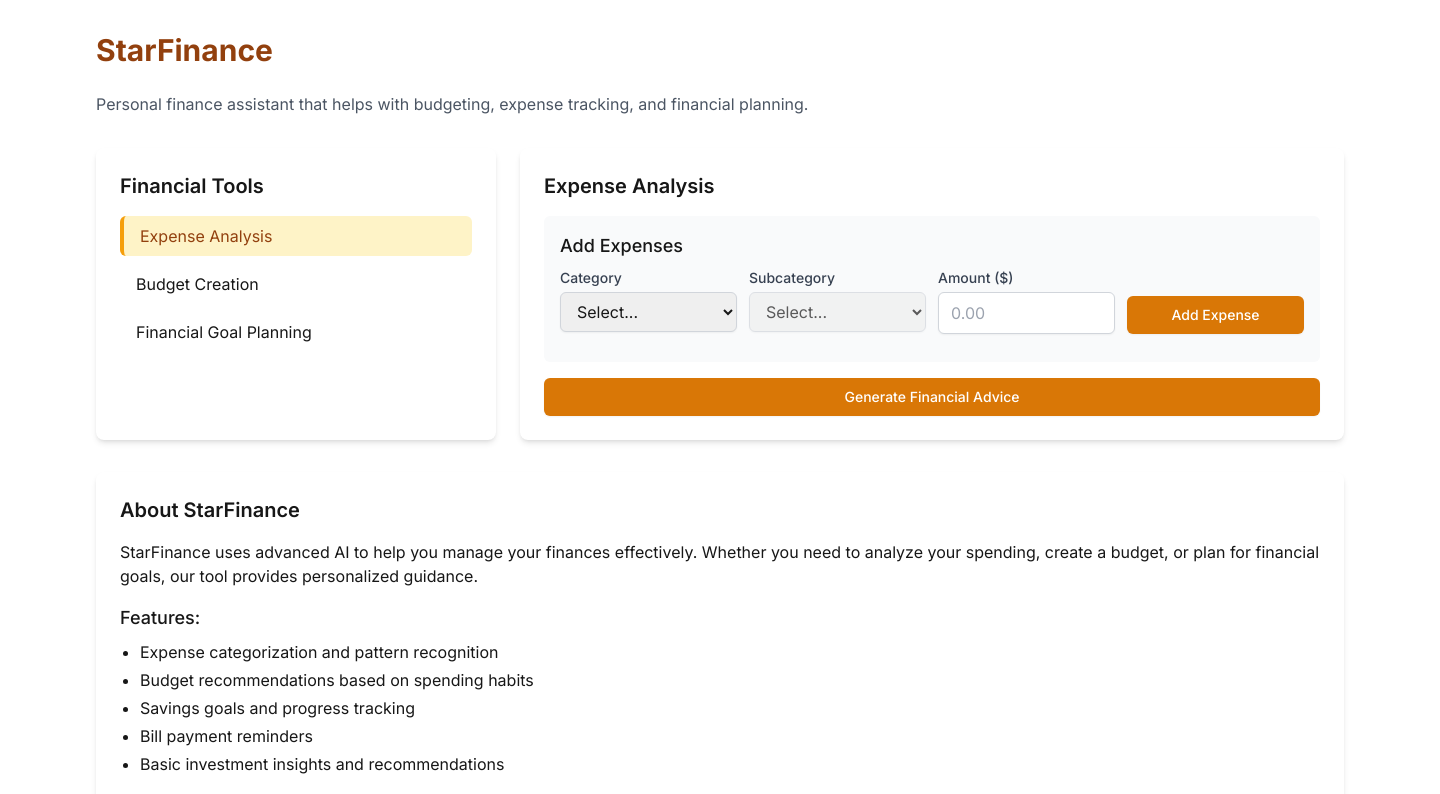
Test: StarFinance Component › handles API errors gracefully
Note: Add an expense and submit
Select "Food" in the dropdown labelled "Category": (648, 312) [560,292,737,332]
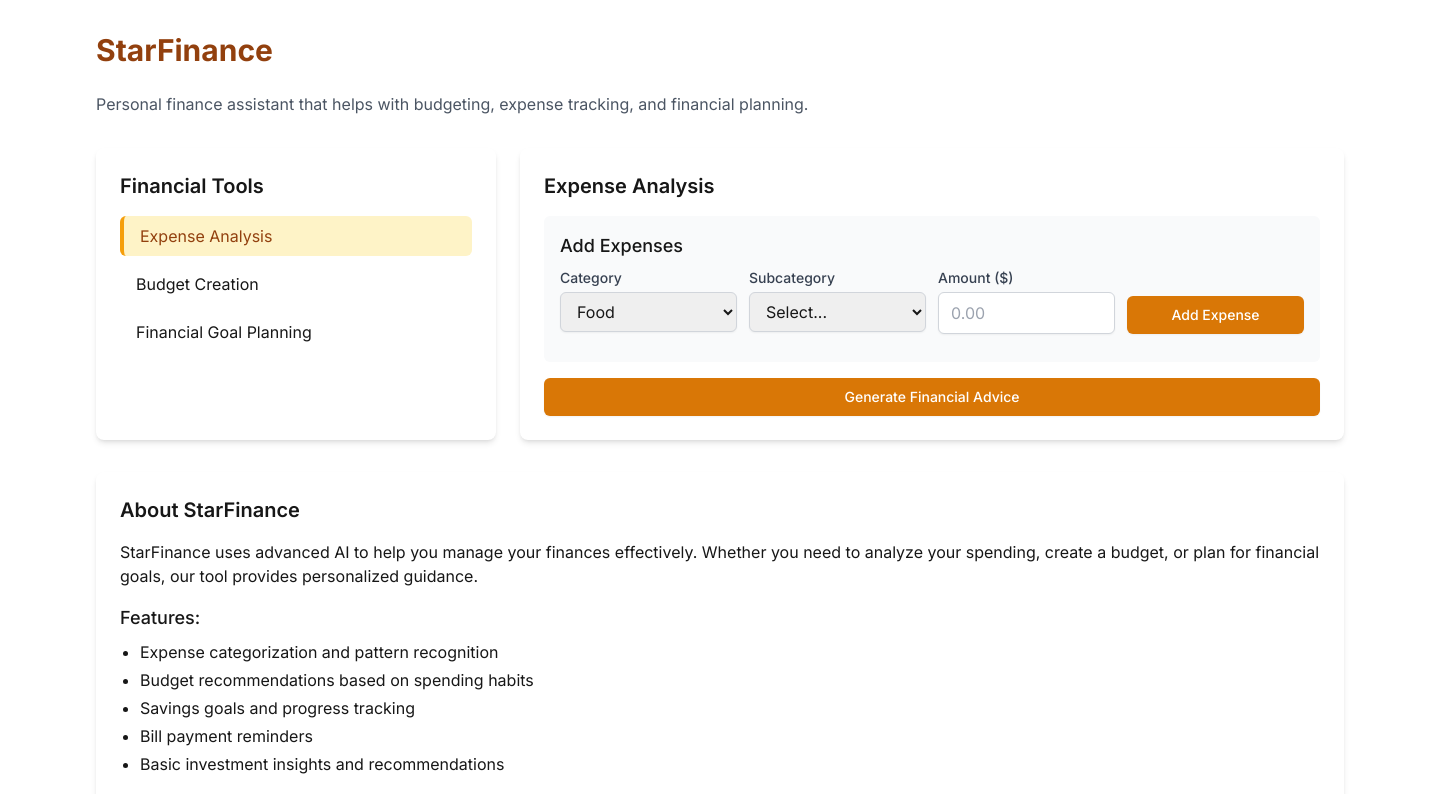
In the number field labelled "Amount ($)": (1026, 313) [938,292,1115,334], type "50"
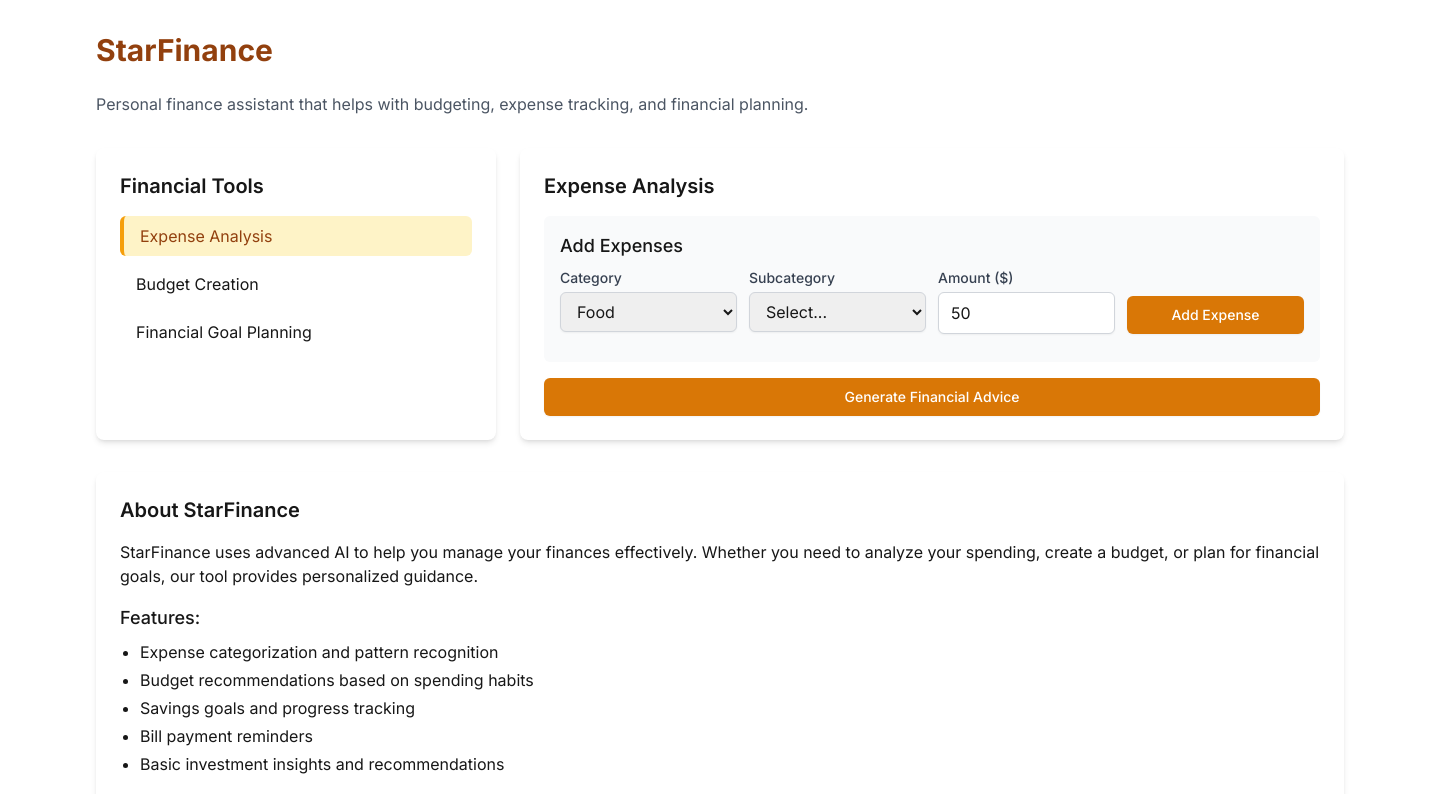
Click the button "Add Expense": click(1216, 315) [1127,296,1304,334]
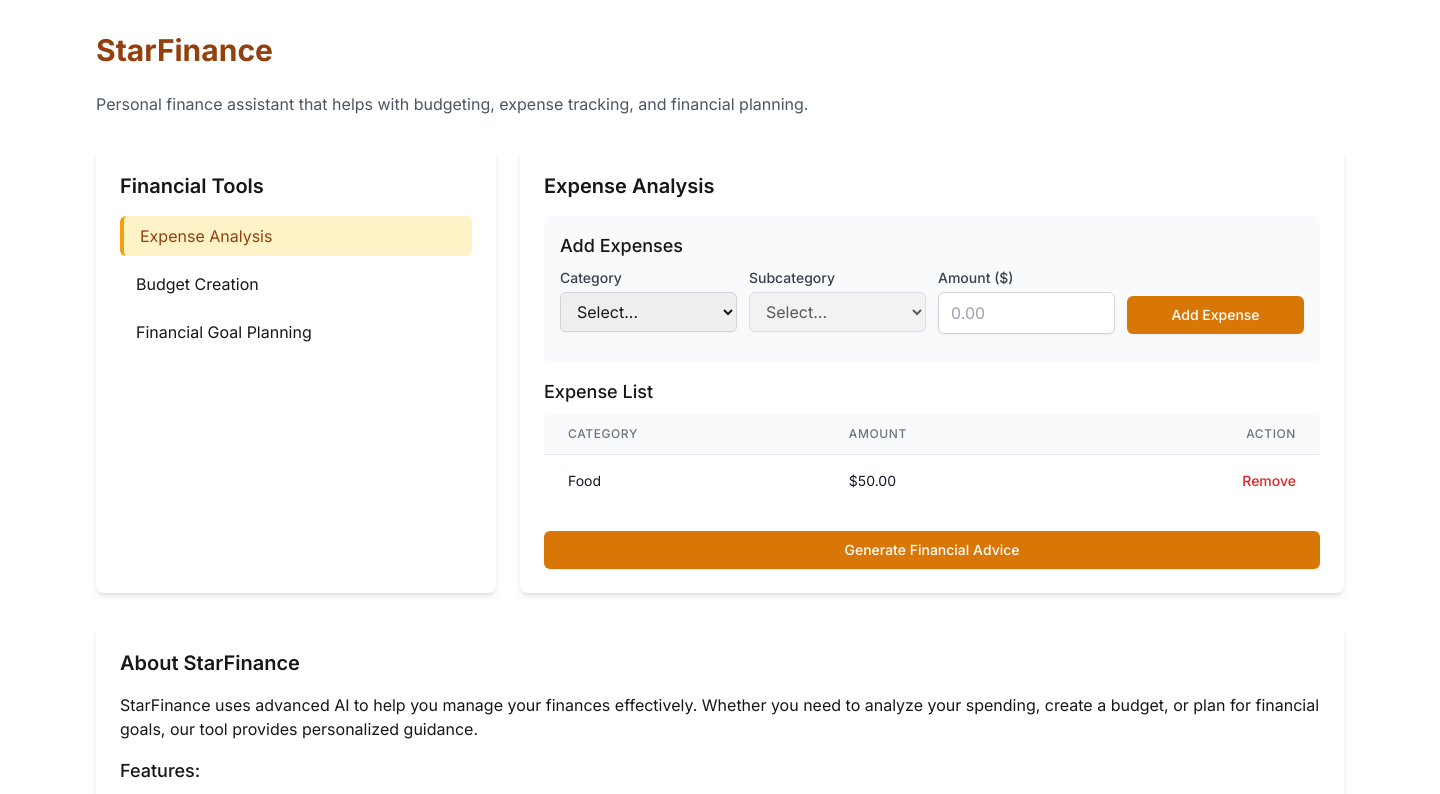
Click the button "Generate Financial Advice": click(932, 550) [544,531,1320,569]
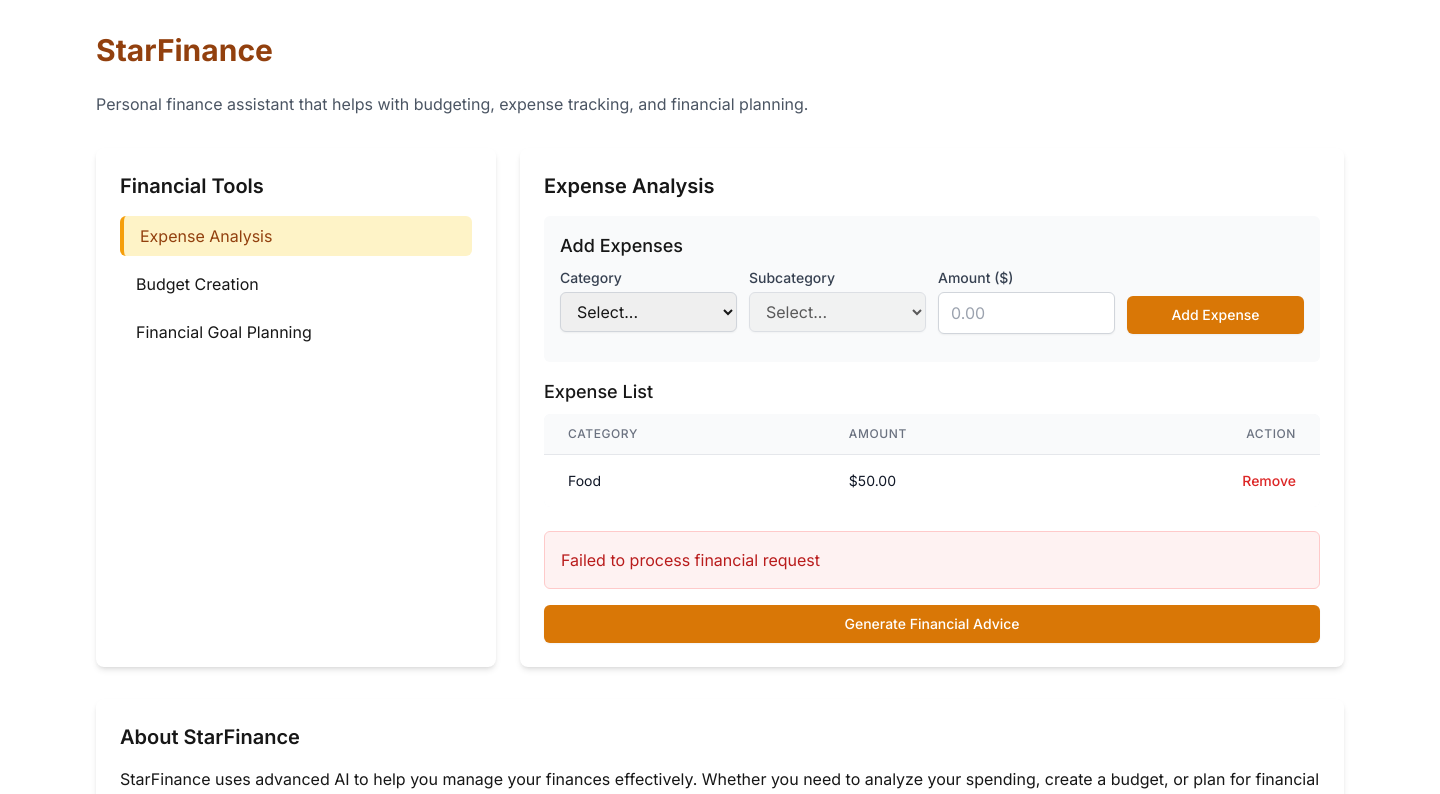
Now the text "Failed to process financial request" is shown, box [544,531,1320,589]
